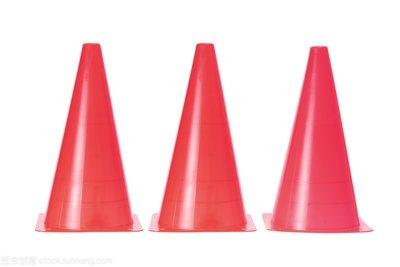cone_barrel: (265, 45, 371, 231), (150, 42, 254, 231), (35, 43, 140, 229)
